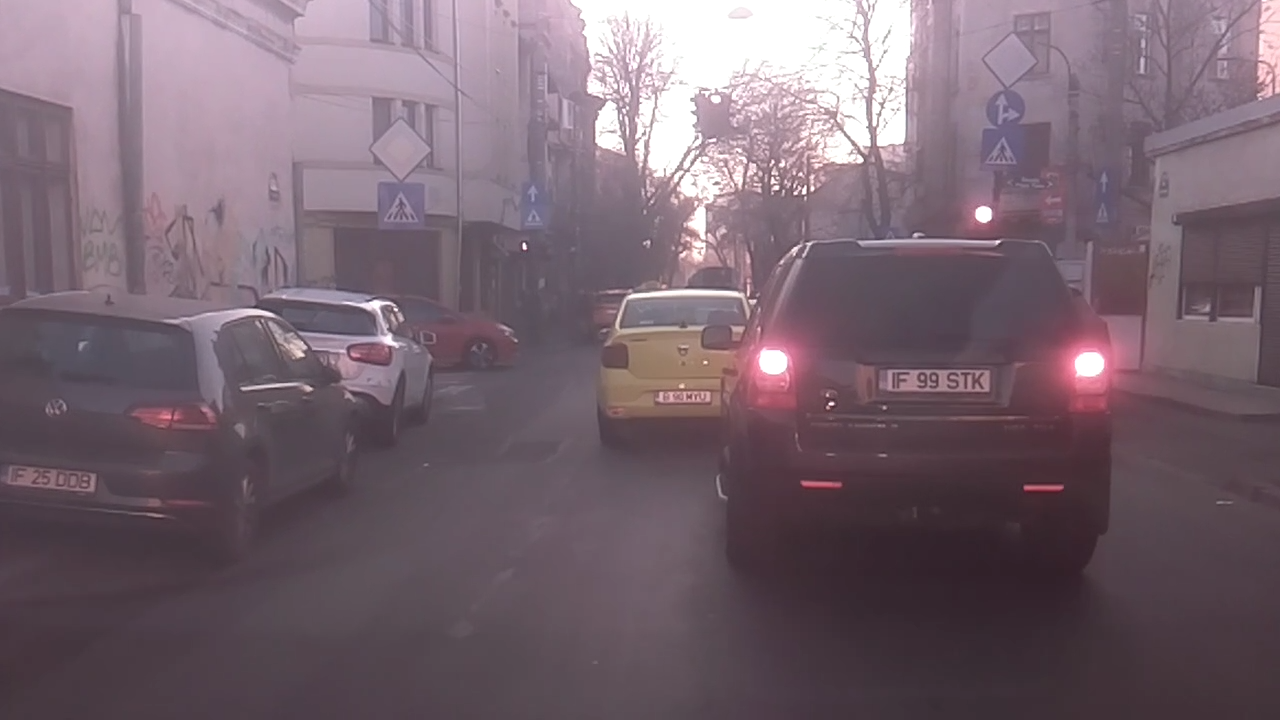license-plate: (874, 364, 999, 397), (0, 458, 102, 496), (650, 386, 716, 407)
